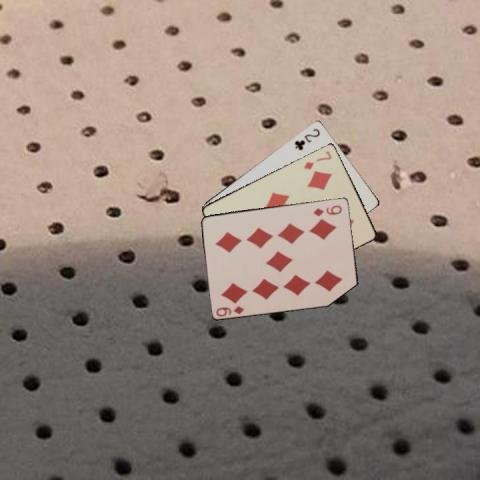2c: (292, 125, 322, 152)
7d: (300, 148, 332, 171)
9d: (310, 202, 343, 217), (213, 303, 246, 317)
